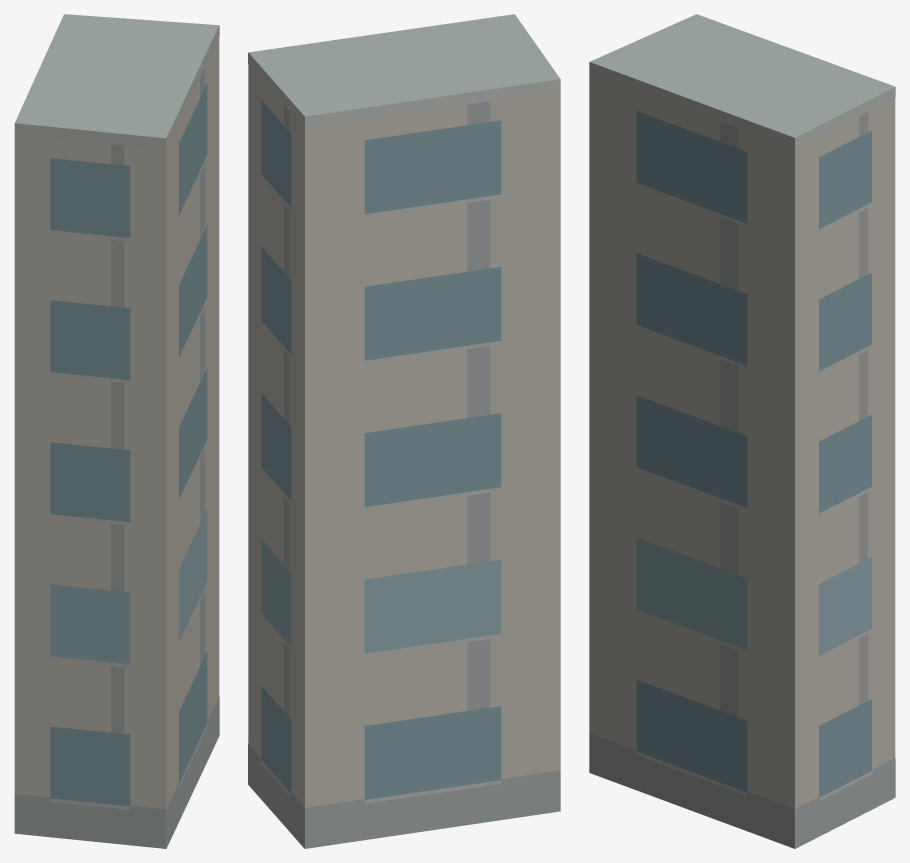
The model's file is survey-upis-32744378.glb.
The picture shows the model from 3 angles, left to right: view 1: azimuth 30°, elevation 25°; view 2: azimuth 150°, elevation 25°; view 3: azimuth 270°, elevation 25°; orthographic projection. The views are drawn at different scales.
Parts seen in each view (by area): view 1: survey-upis-32744378.tmp; view 2: survey-upis-32744378.tmp; view 3: survey-upis-32744378.tmp.
Boxes of the visible parts, x1=… form: survey-upis-32744378.tmp: x1=14, y1=14, x2=219, y2=848; survey-upis-32744378.tmp: x1=248, y1=14, x2=560, y2=848; survey-upis-32744378.tmp: x1=589, y1=14, x2=895, y2=848.
Bounding box in the file's own units: 5.71 × 15.25 × 5.96.
